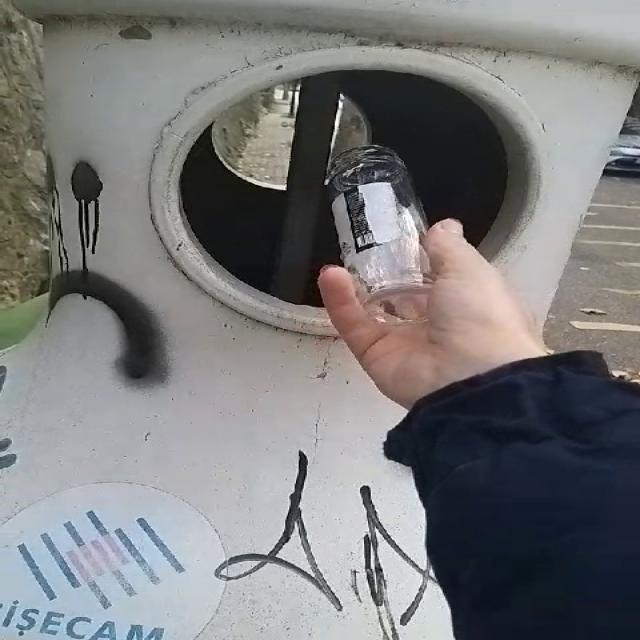glass: (327, 145, 431, 325)
